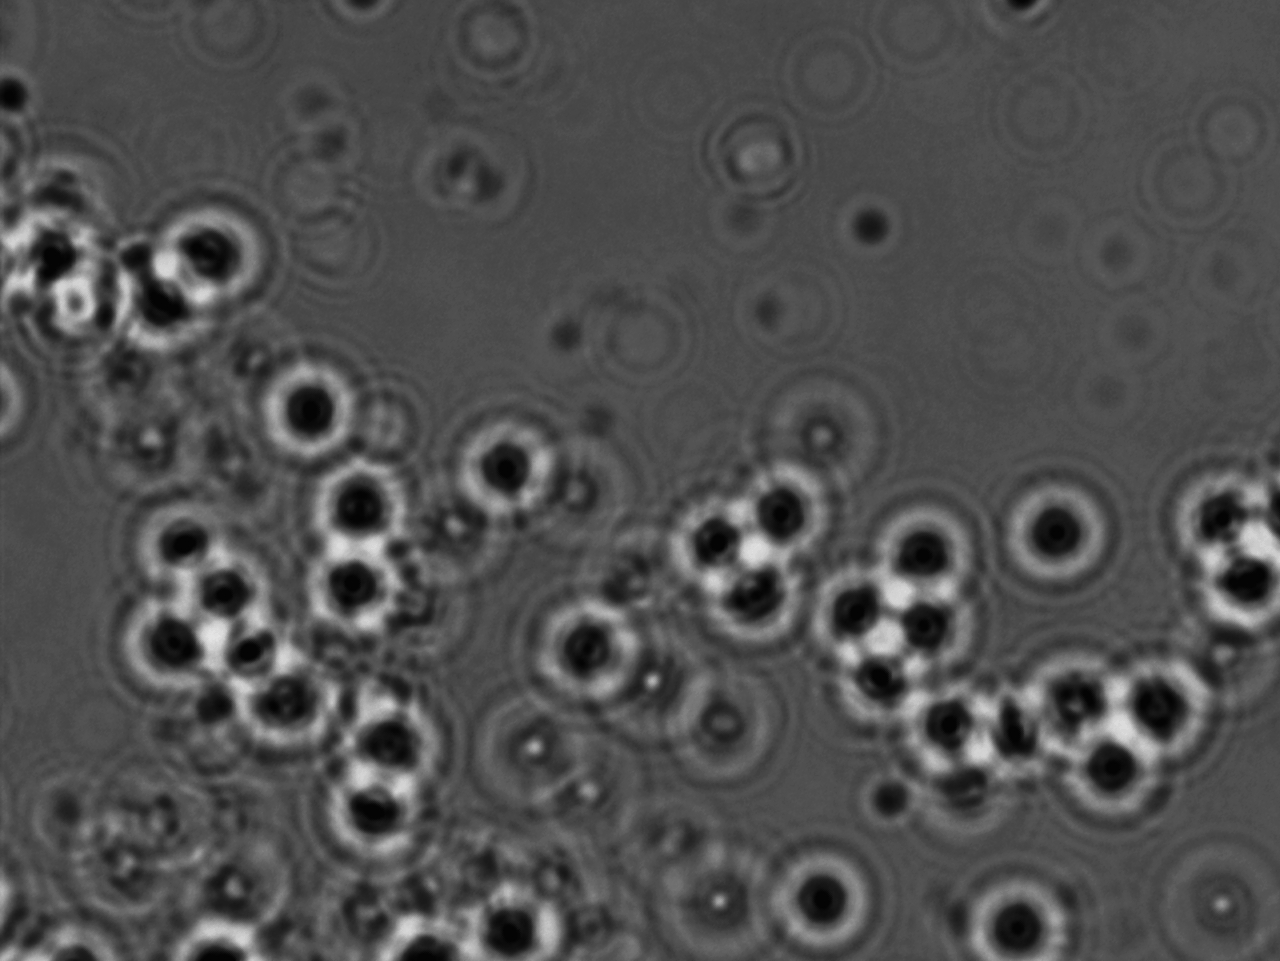depth:-16: (516, 578, 668, 728), (845, 485, 995, 620), (1116, 617, 1232, 772), (431, 406, 565, 536), (143, 192, 276, 323), (238, 342, 370, 467), (989, 466, 1113, 599), (286, 531, 420, 651), (305, 740, 428, 866), (1047, 706, 1165, 835), (291, 443, 416, 559), (728, 450, 845, 573), (761, 829, 875, 951), (652, 473, 763, 591), (957, 870, 1067, 961)
